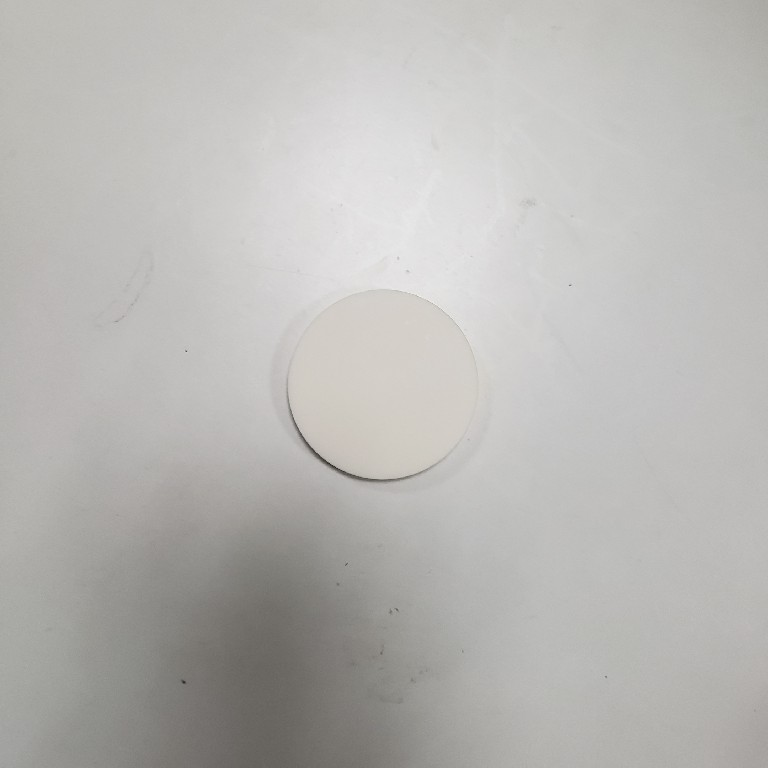ceramics: (284, 289, 482, 484)
